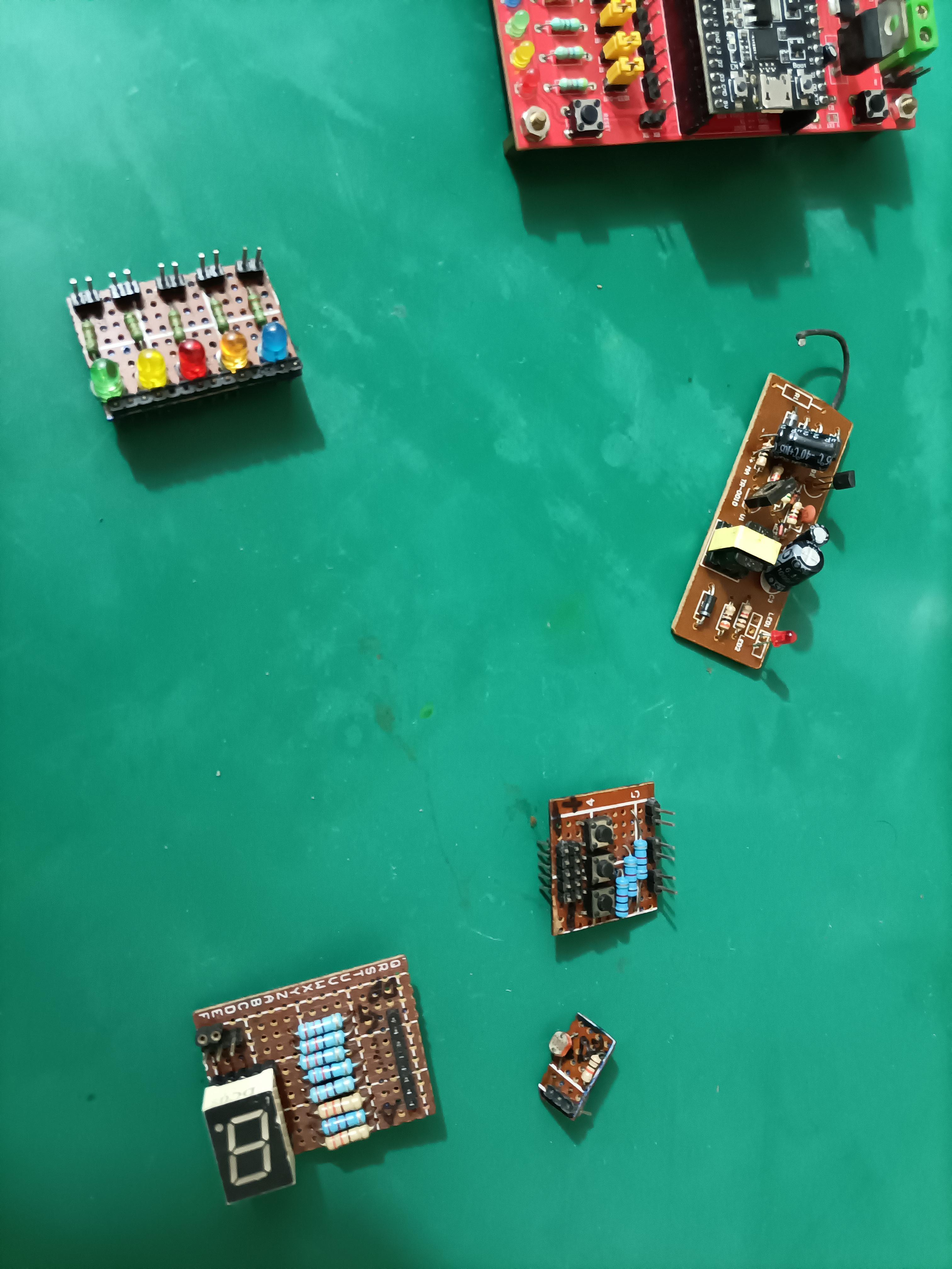LED: (175, 338, 211, 385), (214, 327, 251, 370), (130, 349, 169, 388), (88, 356, 120, 399), (258, 319, 290, 362), (764, 622, 803, 652)
Resistencia: (631, 829, 651, 886), (289, 1041, 350, 1058), (292, 1056, 353, 1073), (299, 1069, 360, 1086), (301, 1087, 362, 1104), (309, 1105, 370, 1122), (318, 1136, 379, 1153), (312, 1121, 372, 1138), (289, 1025, 349, 1042), (162, 304, 188, 340), (79, 318, 103, 356), (122, 314, 147, 350), (240, 290, 263, 328), (623, 857, 643, 899), (614, 874, 629, 924), (592, 1047, 610, 1088), (206, 295, 229, 325), (744, 600, 755, 645), (766, 434, 777, 479), (728, 597, 739, 642), (795, 493, 806, 537)
